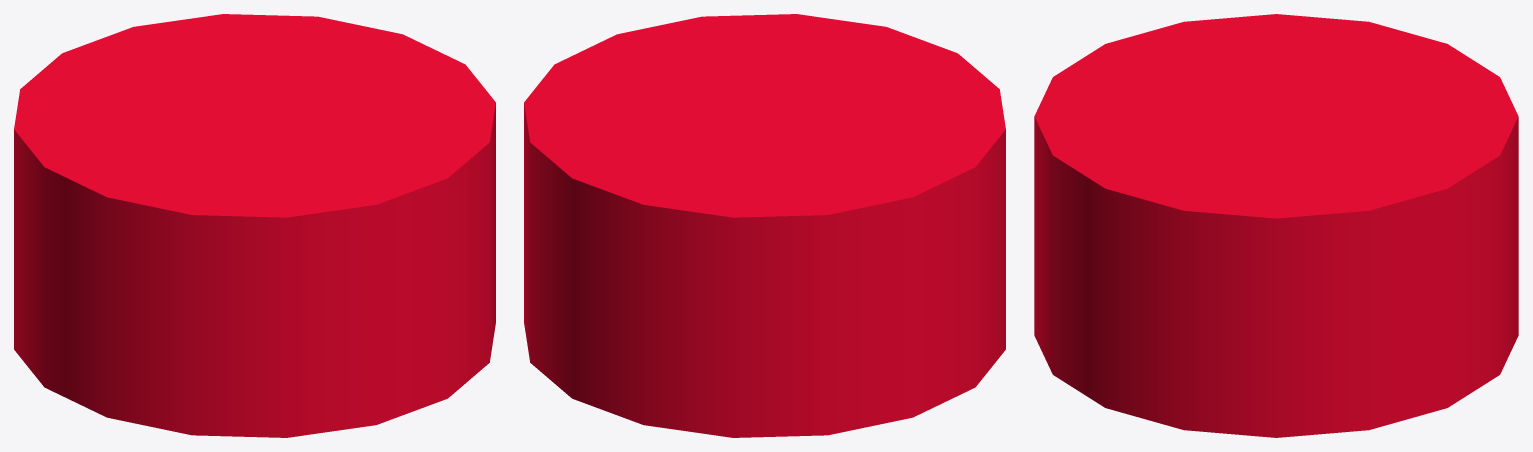
3 renders of one model, left to right at view 1: azimuth 30°, elevation 25°; view 2: azimuth 150°, elevation 25°; view 3: azimuth 270°, elevation 25°, orthographic.
Parts seen in each view (by area): view 1: SM_CursedEssence_01_LOD0; view 2: SM_CursedEssence_01_LOD0; view 3: SM_CursedEssence_01_LOD0.
Part boxes in pixels (x1,y1,x2,y2): SM_CursedEssence_01_LOD0: [14, 14, 495, 437]; SM_CursedEssence_01_LOD0: [524, 14, 1005, 437]; SM_CursedEssence_01_LOD0: [1034, 14, 1518, 437].
Bounding box in the file's own units: 1 × 0.5 × 1.
